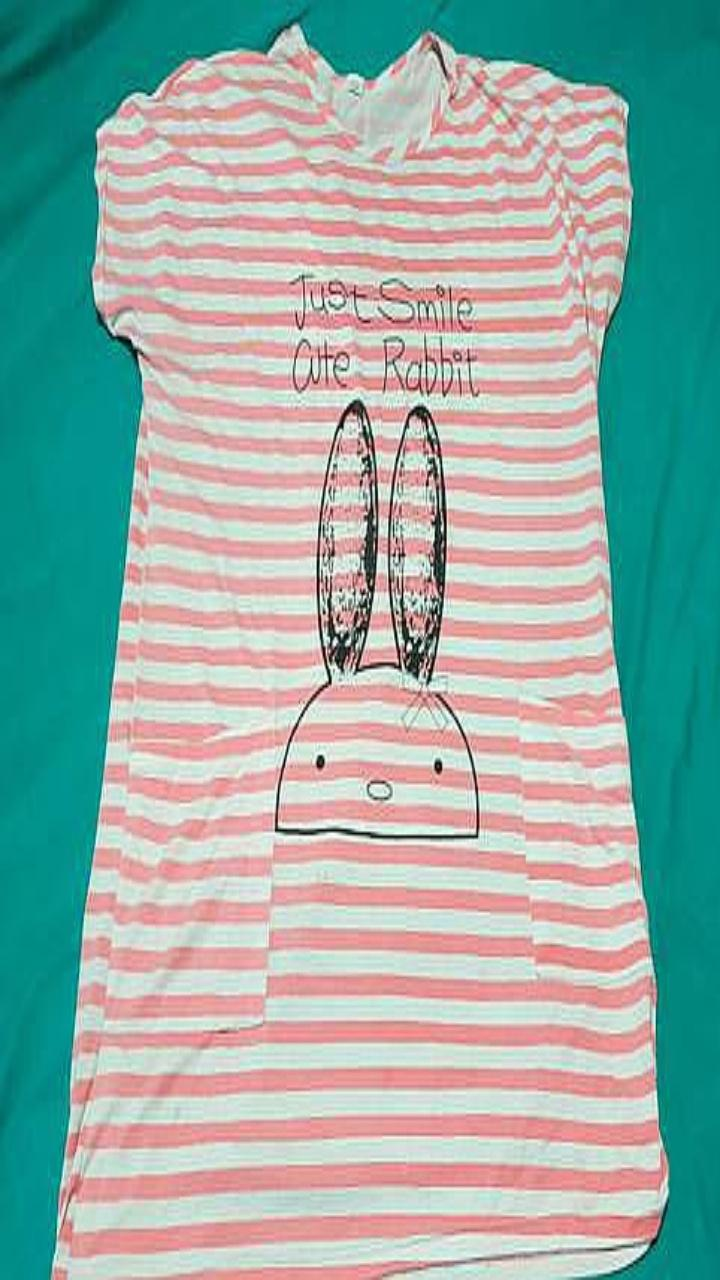T-Shirt: (53, 22, 667, 1279)
